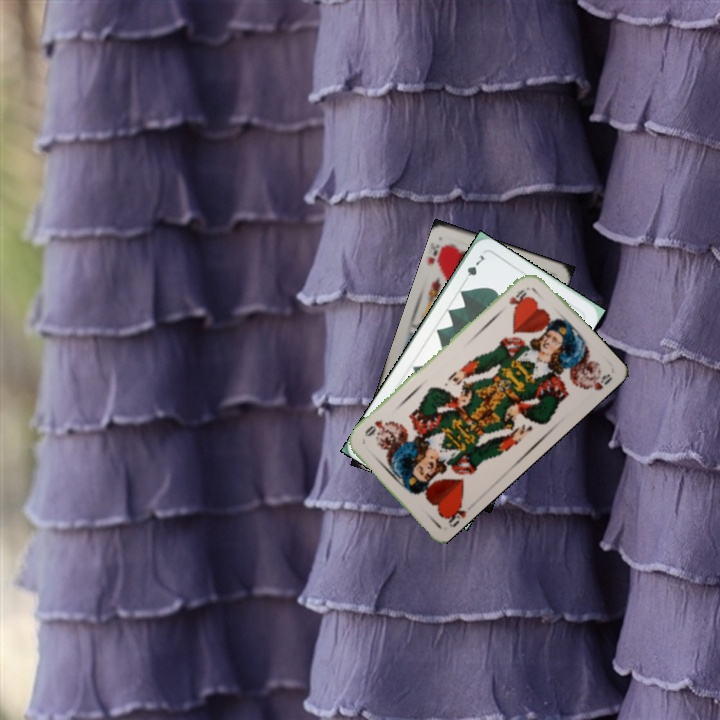G7: (459, 251, 489, 286)
HK: (429, 240, 450, 273)
HO: (440, 496, 469, 530), (505, 285, 529, 311)
